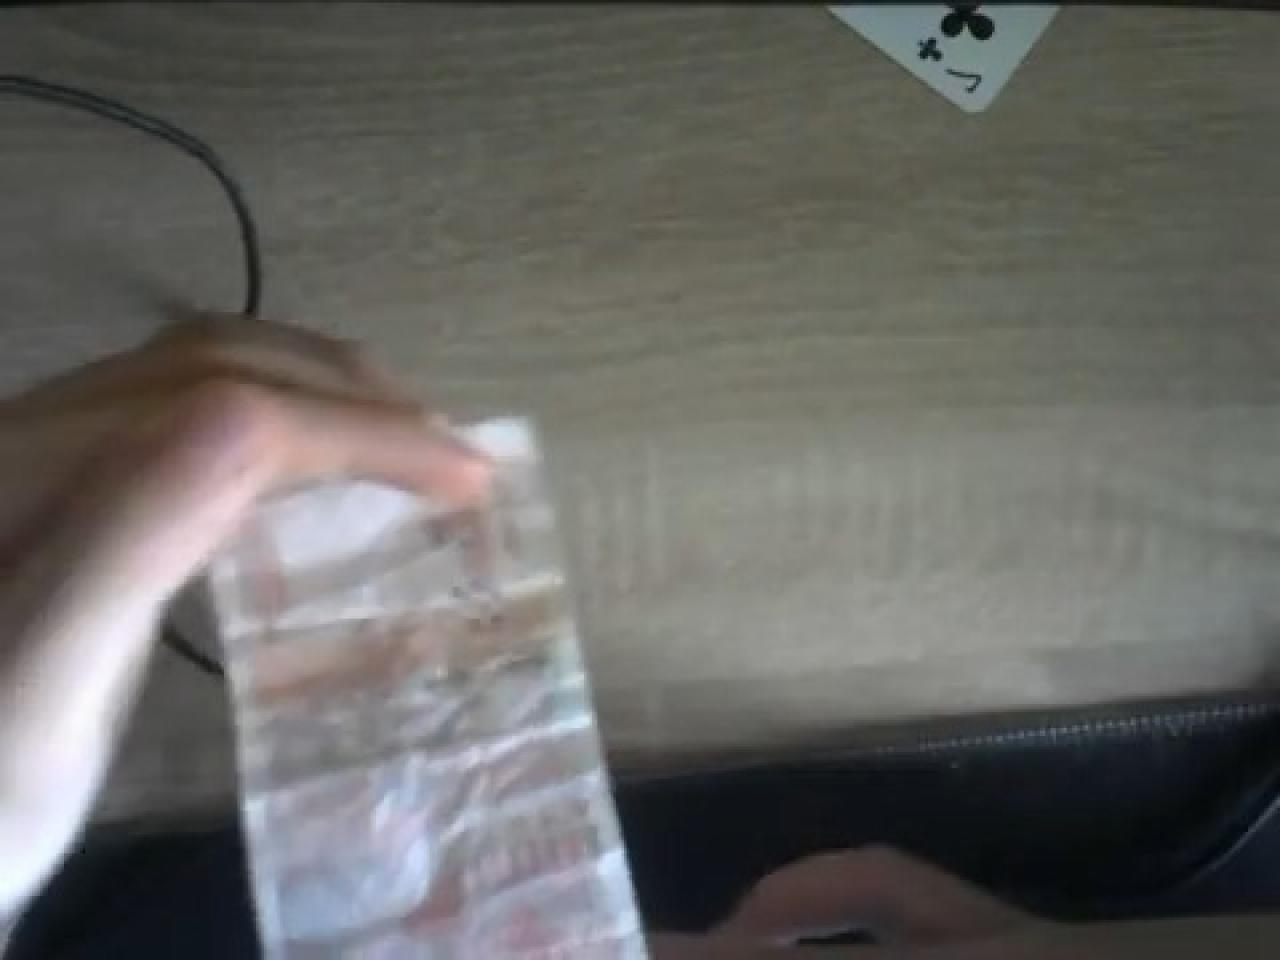5leva: (11, 416, 653, 960)
